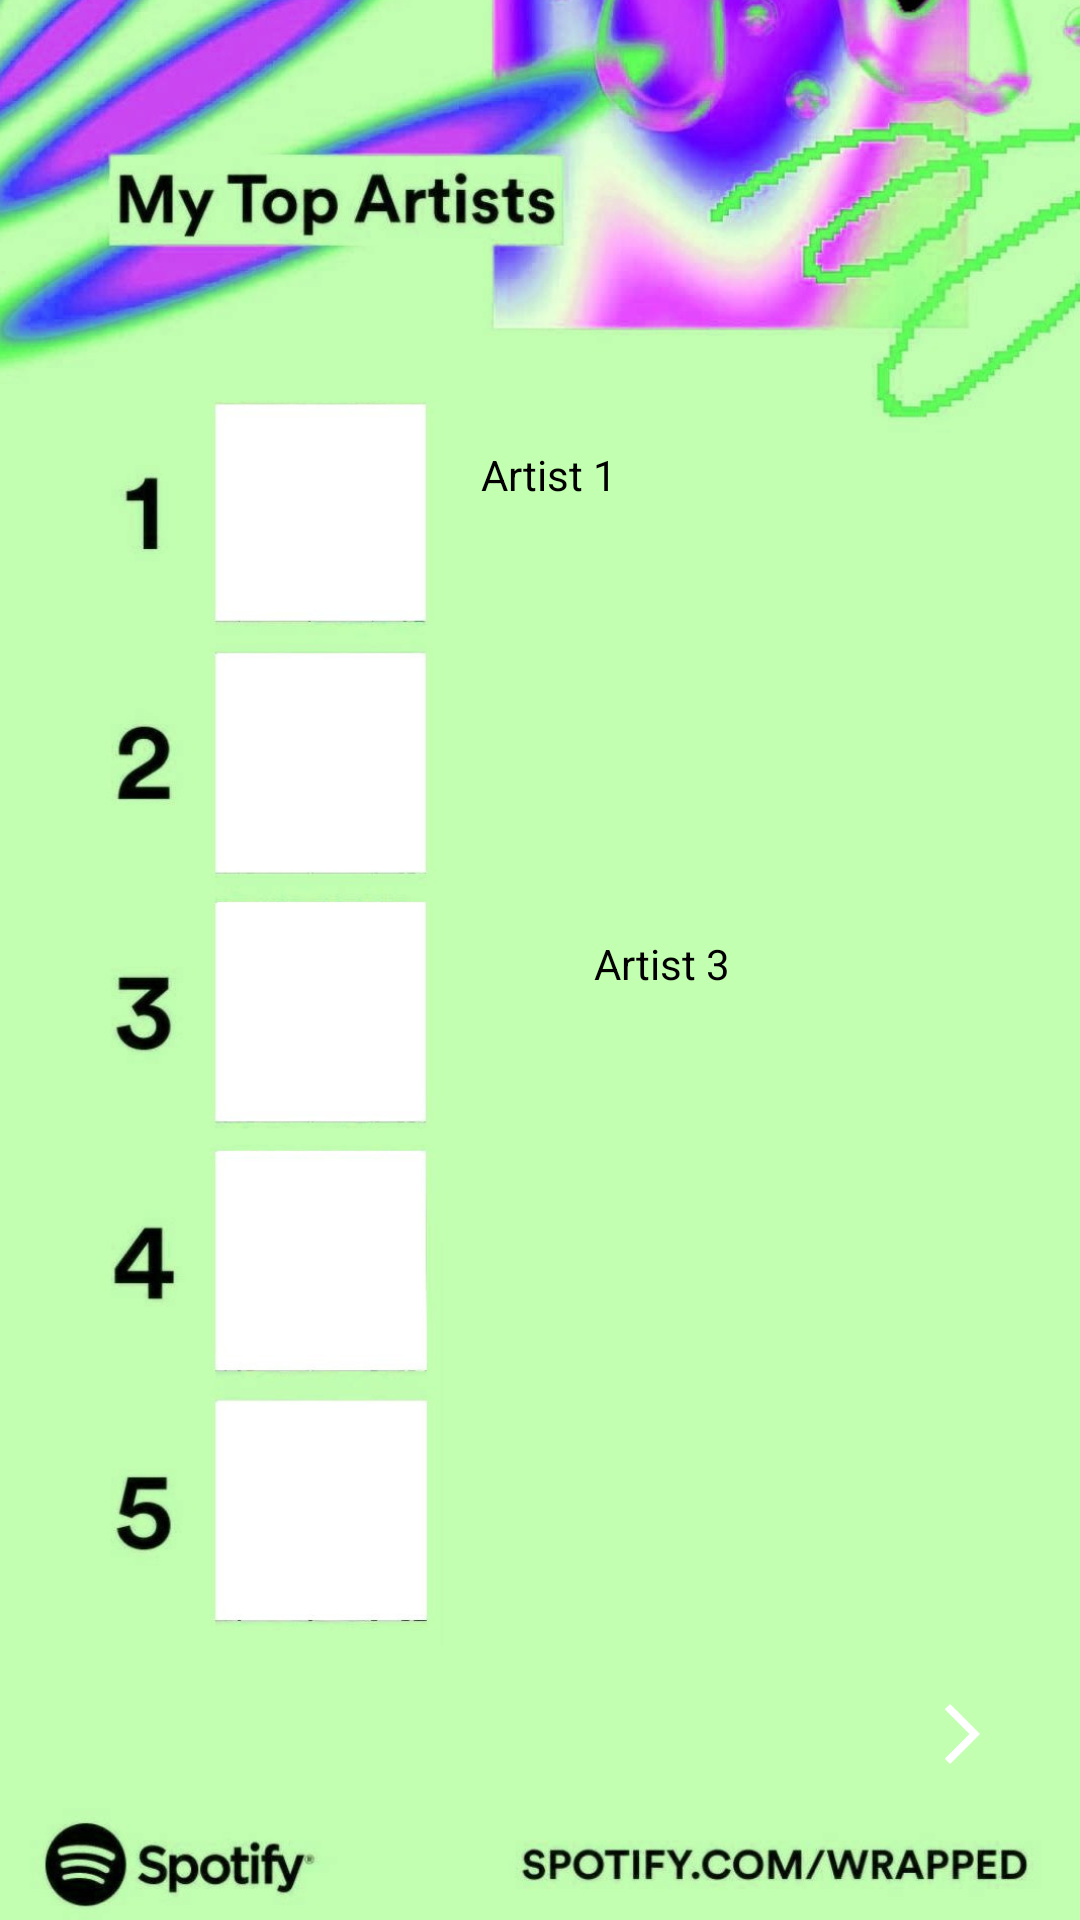

Icons on this 1080 x 1920 Android screen, each with its box as (x1, y1, x2, y2):
Next: (945, 1704, 980, 1764)
